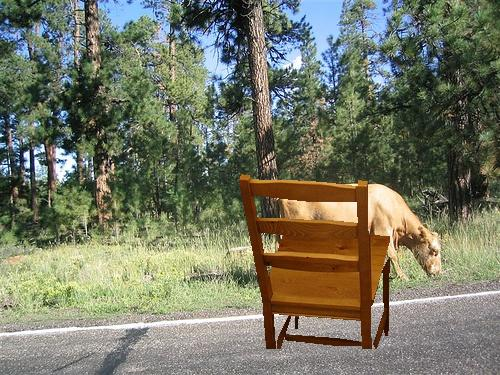tampered: (240, 175, 390, 349)
